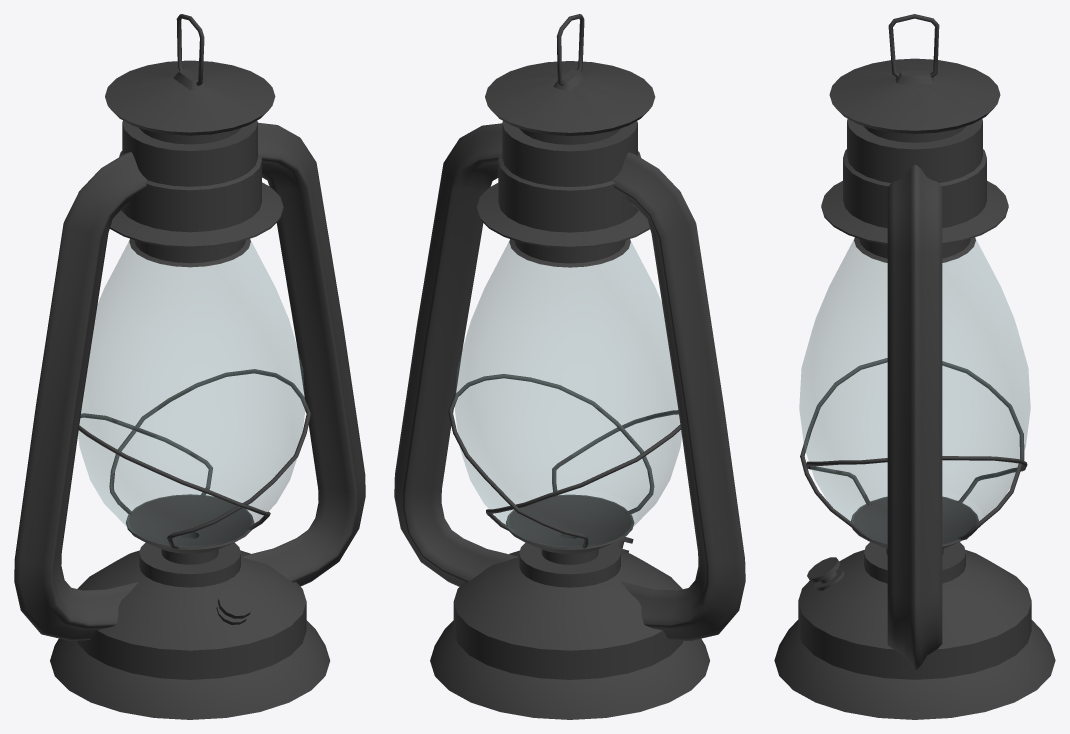
File: OilTorchLight.fbx
3 renders of one model, left to right at view 1: azimuth 30°, elevation 25°; view 2: azimuth 150°, elevation 25°; view 3: azimuth 270°, elevation 25°, orthographic.
Parts seen in each view (by area): view 1: Lamp, Glass; view 2: Lamp, Glass; view 3: Lamp, Glass.
Boxes of the visible parts, left/top/right/bottom form: Lamp: left=14, top=14, right=365, bottom=719; Glass: left=78, top=241, right=305, bottom=546; Lamp: left=394, top=14, right=745, bottom=719; Glass: left=455, top=241, right=681, bottom=546; Lamp: left=774, top=14, right=1055, bottom=719; Glass: left=799, top=240, right=1030, bottom=543.
Bounding box in the file's own units: 15.17 × 26.61 × 10.5.
